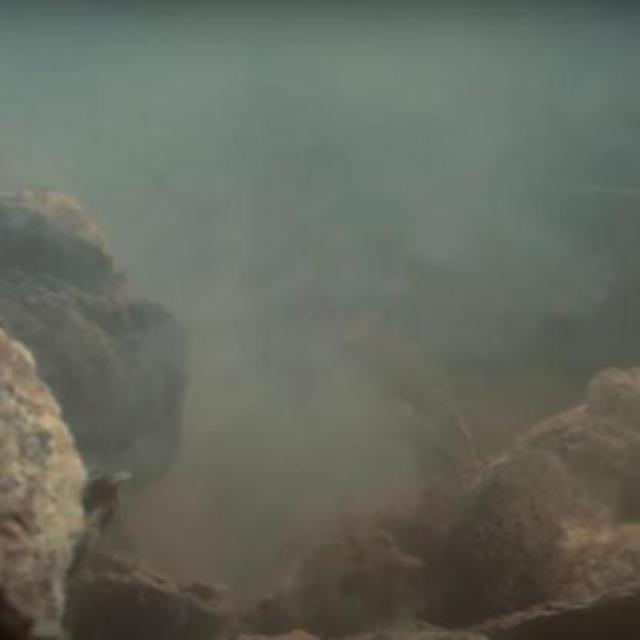Oyster-Closed: (0, 333, 83, 622), (0, 255, 124, 430), (90, 300, 189, 472), (0, 190, 116, 283)
Oyster-Open: (453, 580, 640, 640)
